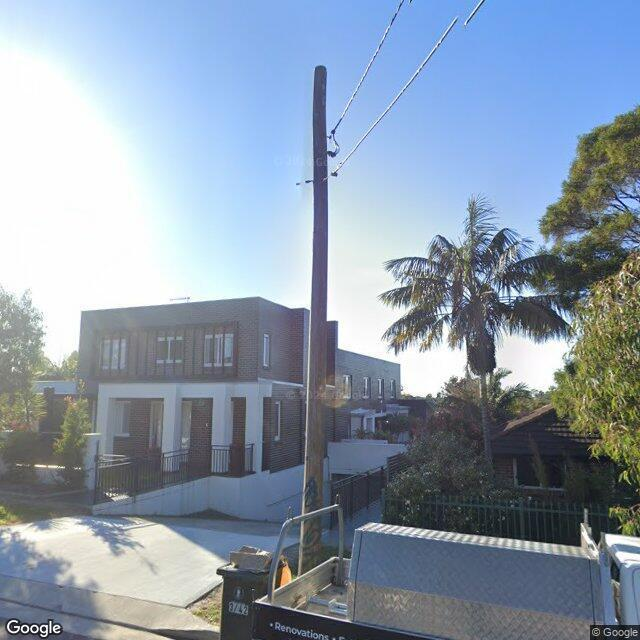timber-pole: (298, 67, 328, 576)
